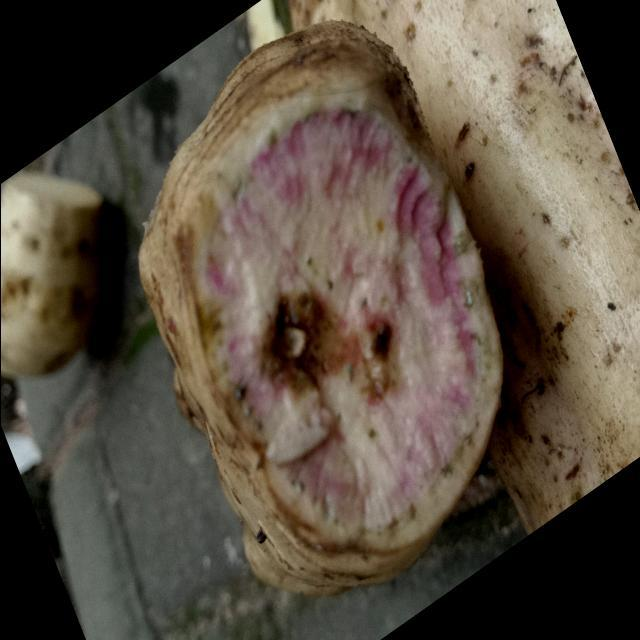Sick Sweet Potato_Tuber Rot: (195, 95, 500, 548)
